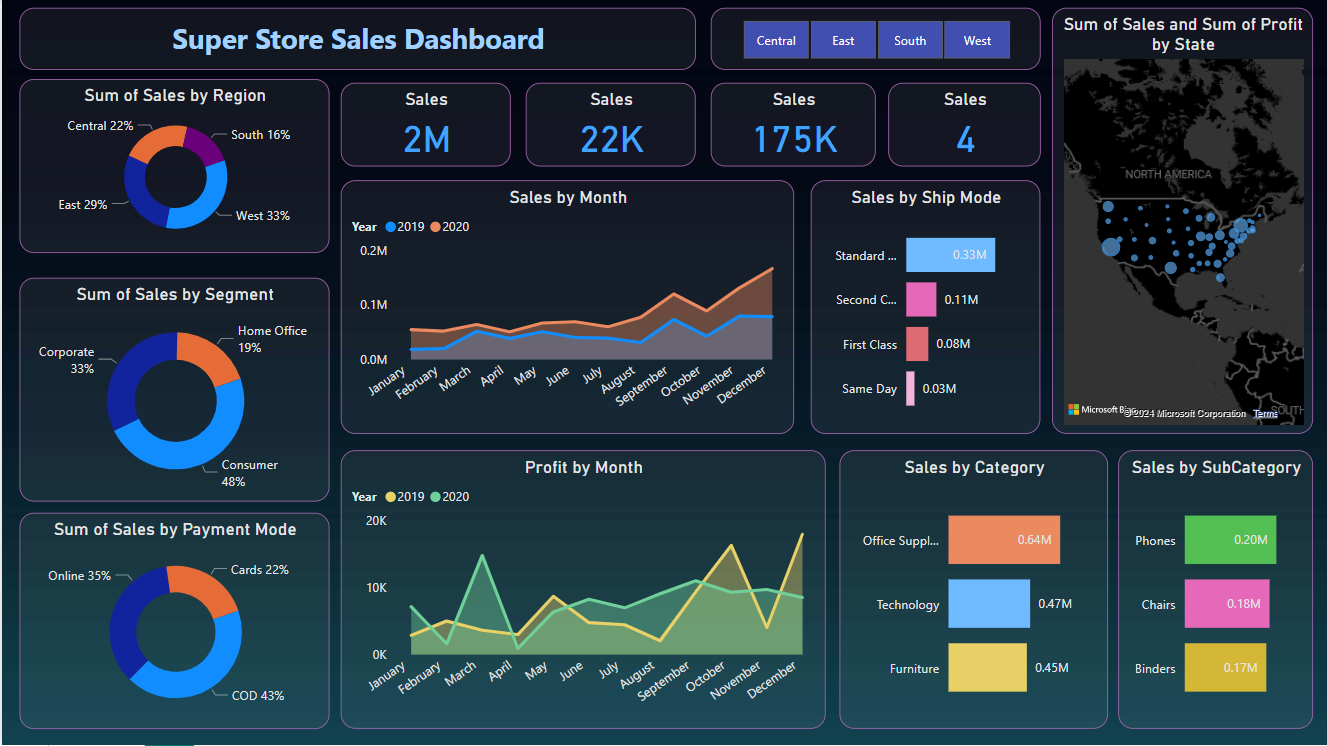

This screenshot's page, from the dashboard's own definition file:
{"tool":"powerbi","page":{"name":"Page 1","canvas":[1280,720],"ordinal":0},"visuals":[{"type":"clusteredBarChart","title":" Sales by Category","fields":{"Category":["SuperStore_Sales_Dataset.Category"],"Y":["Sum(SuperStore_Sales_Dataset.Sales)"]},"box":[808.3,435.5,259.4,269],"z":0},{"type":"clusteredBarChart","title":" Sales by SubCategory","fields":{"Category":["SuperStore_Sales_Dataset.Sub-Category"],"Y":["Sum(SuperStore_Sales_Dataset.Sales)"]},"box":[1077.4,435.5,188.2,269],"z":1000},{"type":"clusteredBarChart","title":" Sales by Ship Mode","fields":{"Category":["SuperStore_Sales_Dataset.Ship Mode"],"Y":["Sum(SuperStore_Sales_Dataset.Sales)"]},"box":[780.6,174.9,222,244.9],"z":2000},{"type":"areaChart","title":" Sales by Month","fields":{"Category":["SuperStore_Sales_Dataset.Order Date.Variation.Date Hierarchy.Month","SuperStore_Sales_Dataset.Order Date.Variation.Date Hierarchy.Day"],"Y":["Sum(SuperStore_Sales_Dataset.Sales)"],"Series":["SuperStore_Sales_Dataset.Order Date.Variation.Date Hierarchy.Year"]},"box":[326.9,174.9,437.9,244.9],"z":3000},{"type":"areaChart","title":" Profit by Month","fields":{"Category":["SuperStore_Sales_Dataset.Order Date.Variation.Date Hierarchy.Month","SuperStore_Sales_Dataset.Order Date.Variation.Date Hierarchy.Day"],"Series":["SuperStore_Sales_Dataset.Order Date.Variation.Date Hierarchy.Year"],"Y":["Sum(SuperStore_Sales_Dataset.Profit)"]},"box":[326.9,435.5,468.1,269],"z":4000},{"type":"map","fields":{"Category":["SuperStore_Sales_Dataset.State"],"Size":["Sum(SuperStore_Sales_Dataset.Sales)"]},"box":[1013.4,8.4,252.1,411.4],"z":5000},{"type":"donutChart","fields":{"Y":["Sum(SuperStore_Sales_Dataset.Sales)"],"Category":["SuperStore_Sales_Dataset.Segment"]},"box":[16.9,269,299.2,216],"z":6000},{"type":"donutChart","fields":{"Y":["Sum(SuperStore_Sales_Dataset.Sales)"],"Category":["SuperStore_Sales_Dataset.Payment Mode"]},"box":[16.9,495.8,299.2,208.7],"z":7000},{"type":"slicer","fields":{"Values":["SuperStore_Sales_Dataset.Region"]},"box":[684.1,8.4,318.5,60.3],"z":8000},{"type":"textbox","box":[16.9,8.4,652.7,60.3],"z":9000},{"type":"card","title":"Sales","fields":{"Values":["Sum(SuperStore_Sales_Dataset.Sales)"]},"box":[326.9,80.8,164.1,80.8],"z":10000},{"type":"card","title":"Sales","fields":{"Values":["Sum(SuperStore_Sales_Dataset.Quantity)"]},"box":[505.5,80.8,164.1,80.8],"z":11000},{"type":"card","title":"Sales","fields":{"Values":["Sum(SuperStore_Sales_Dataset.Profit)"]},"box":[684.1,80.8,159.3,80.8],"z":12000},{"type":"card","title":"Sales","fields":{"Values":["Avg(SuperStore_Sales_Dataset.AvgDelivery)"]},"box":[855.4,80.8,147.2,80.8],"z":13000},{"type":"donutChart","fields":{"Y":["Sum(SuperStore_Sales_Dataset.Sales)"],"Category":["SuperStore_Sales_Dataset.Region"]},"box":[16.9,77.2,299.2,167.7],"z":13001}]}

Visuals, with their boxes in screenshot pixels (x1, y1, x2, y2), scaled from the page's 1280x720 canvas onto the 1327x746 screenshot:
" Sales by Category" clusteredBarChart: bbox(838, 451, 1107, 730)
" Sales by SubCategory" clusteredBarChart: bbox(1117, 451, 1312, 730)
" Sales by Ship Mode" clusteredBarChart: bbox(809, 181, 1039, 435)
" Sales by Month" areaChart: bbox(339, 181, 793, 435)
" Profit by Month" areaChart: bbox(339, 451, 824, 730)
map - SuperStore_Sales_Dataset.State x Sum(SuperStore_Sales_Dataset.Sales): bbox(1051, 9, 1312, 435)
donutChart - Sum(SuperStore_Sales_Dataset.Sales) x SuperStore_Sales_Dataset.Segment: bbox(18, 279, 328, 503)
donutChart - Sum(SuperStore_Sales_Dataset.Sales) x SuperStore_Sales_Dataset.Payment Mode: bbox(18, 514, 328, 730)
slicer - SuperStore_Sales_Dataset.Region: bbox(709, 9, 1039, 71)
textbox: bbox(18, 9, 694, 71)
"Sales" card: bbox(339, 84, 509, 167)
"Sales" card: bbox(524, 84, 694, 167)
"Sales" card: bbox(709, 84, 874, 167)
"Sales" card: bbox(887, 84, 1039, 167)
donutChart - Sum(SuperStore_Sales_Dataset.Sales) x SuperStore_Sales_Dataset.Region: bbox(18, 80, 328, 254)
